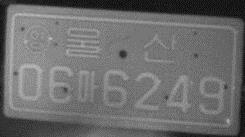0: (17, 62, 43, 101)
2: (134, 69, 161, 113)
4: (165, 73, 192, 114)
6: (100, 67, 129, 109), (48, 64, 73, 105)
9: (198, 75, 226, 116)
마: (75, 68, 98, 104)
영: (23, 23, 52, 54)
울산_D: (63, 24, 178, 65)
